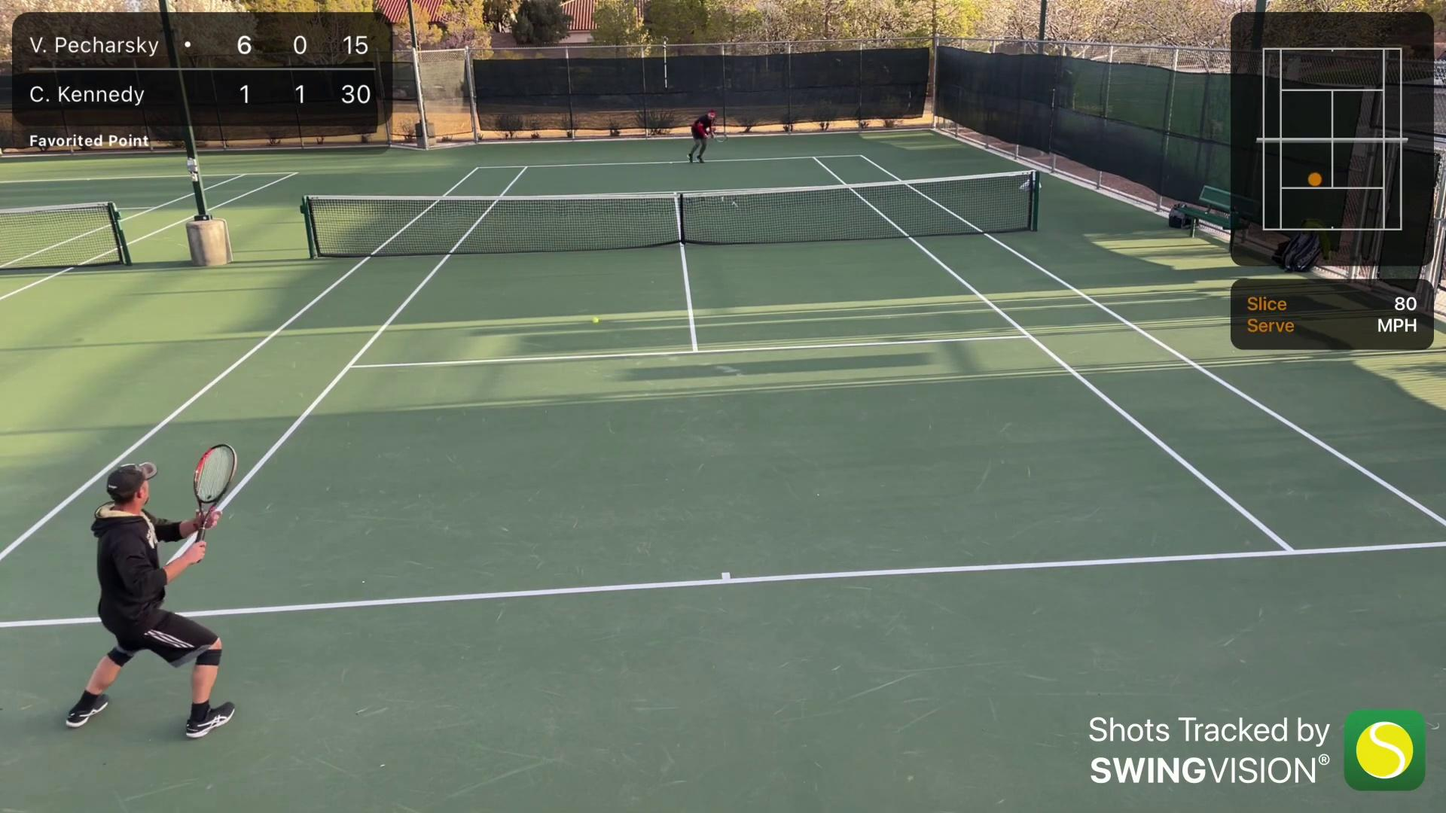ball: (590, 315, 602, 324)
